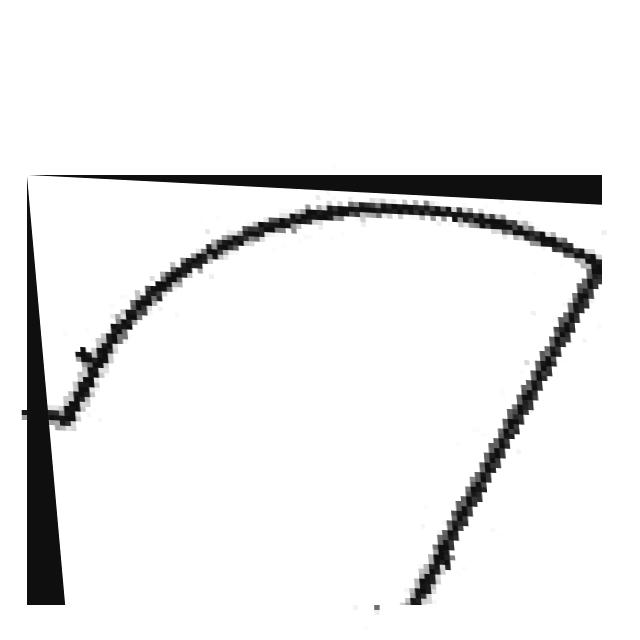door: (27, 175, 602, 605)
